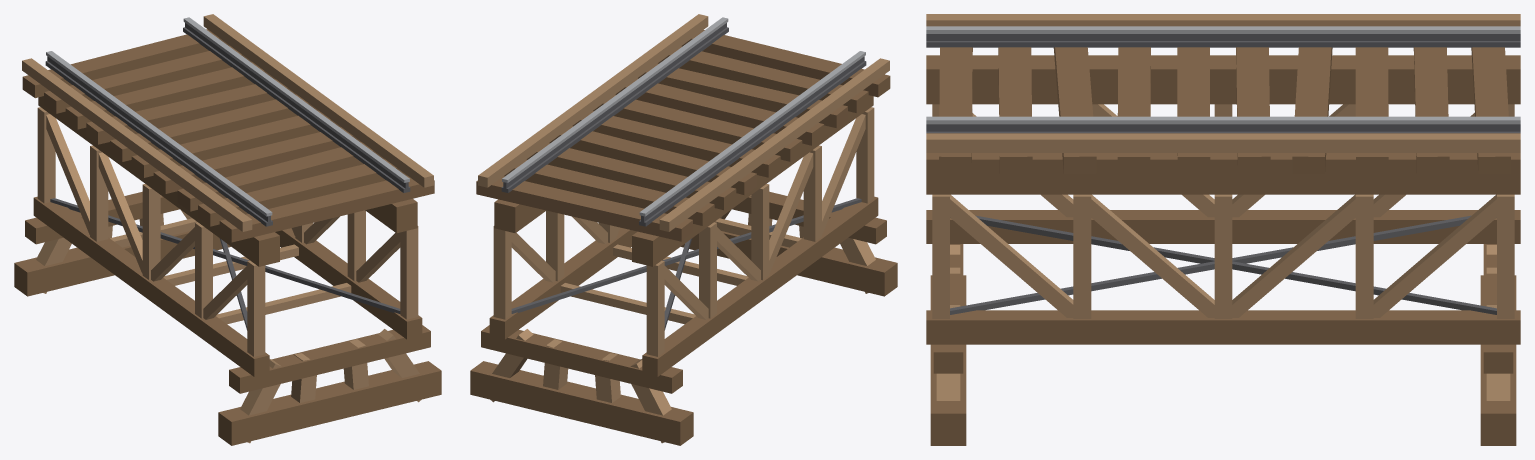
File: SM_Rail_Bridge_Middle.glb
3 views of the same model, side by side, from view 1: azimuth 30°, elevation 25°; view 2: azimuth 150°, elevation 25°; view 3: azimuth 270°, elevation 25° (orthographic). The views are drawn at different scales.
Visible parts, largest first — view 1: SM_Rail_Bridge_Middle; view 2: SM_Rail_Bridge_Middle; view 3: SM_Rail_Bridge_Middle.
Boxes of the visible parts, x1,y1,x2,y2 form: SM_Rail_Bridge_Middle: [14, 14, 441, 445]; SM_Rail_Bridge_Middle: [470, 14, 897, 445]; SM_Rail_Bridge_Middle: [926, 14, 1520, 445].
Bounding box in the file's own units: 2.2 × 2.3 × 4.
